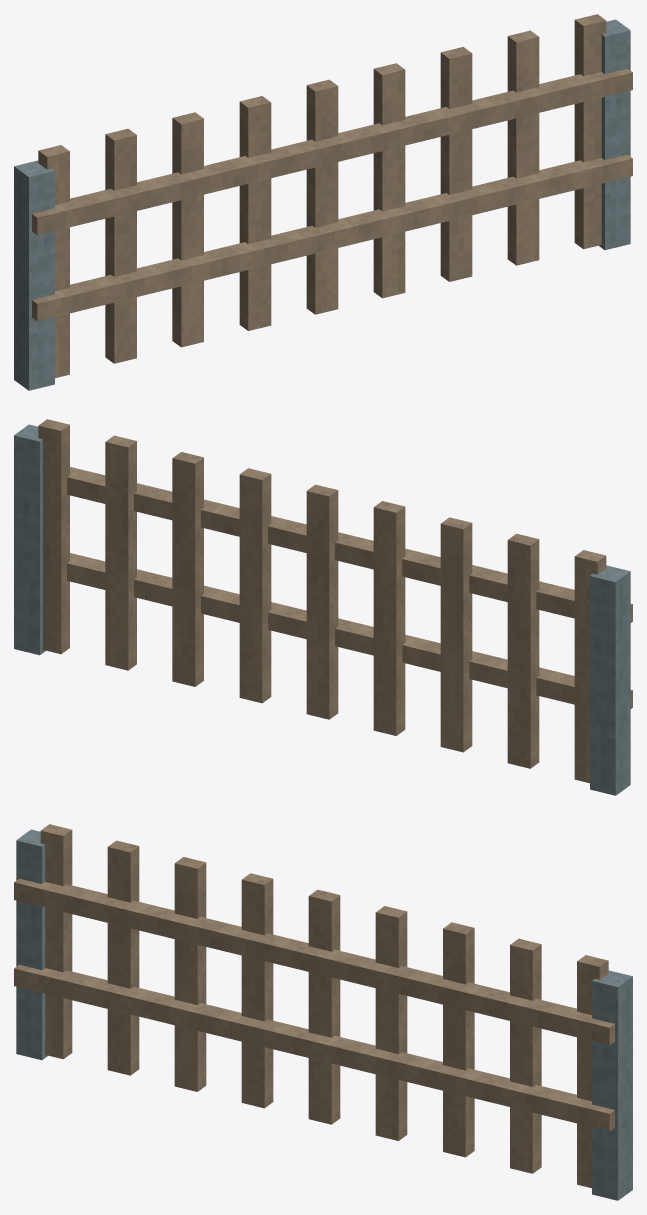
The model's file is level_blockout_domestic_picket_fence.glb.
3 renders of one model, top to bottom at view 1: azimuth 30°, elevation 25°; view 2: azimuth 150°, elevation 25°; view 3: azimuth 330°, elevation 25°, orthographic.
Parts seen in each view (by area): view 1: level_blockout_domestic_picket_fence; view 2: level_blockout_domestic_picket_fence; view 3: level_blockout_domestic_picket_fence.
Boxes of the visible parts, x1,y1,x2,y2 form: level_blockout_domestic_picket_fence: [14, 14, 632, 390]; level_blockout_domestic_picket_fence: [14, 419, 632, 795]; level_blockout_domestic_picket_fence: [14, 824, 632, 1200].
Size of the model in its own units: 3.95 by 1.42 by 0.23.
Materials: 2 (2 with a texture image).
